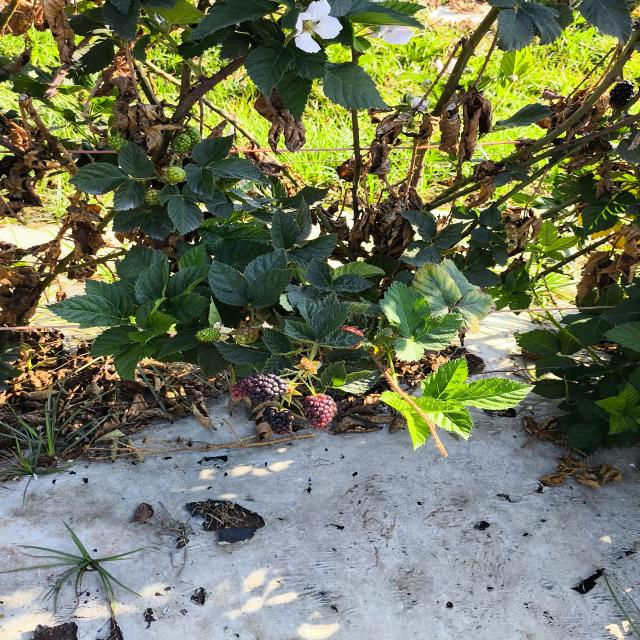marron: (248, 374, 288, 404), (303, 394, 337, 429), (262, 407, 293, 435), (230, 376, 256, 400)
